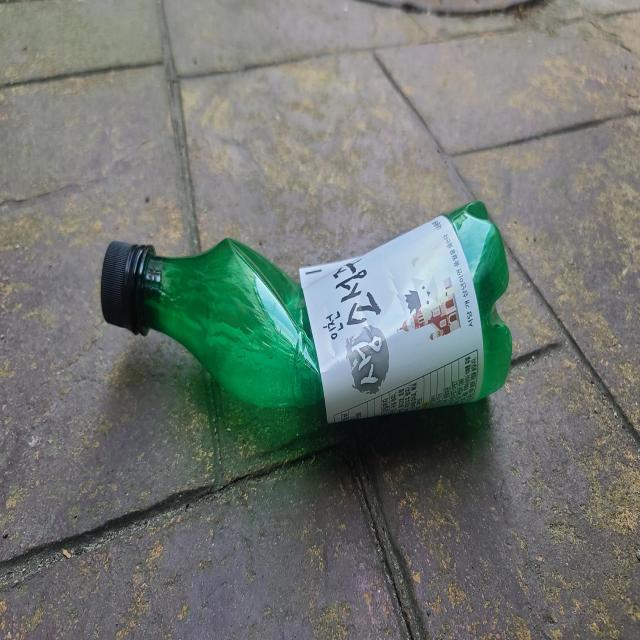plastic: (100, 202, 512, 424)
